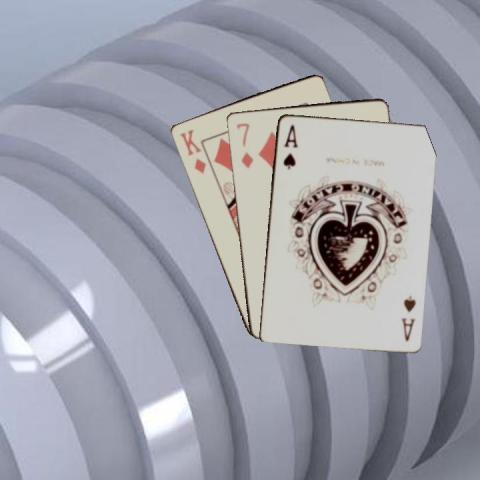7d: (233, 119, 254, 170)
As: (280, 120, 299, 170), (398, 292, 417, 342)
Kd: (176, 126, 207, 175)
